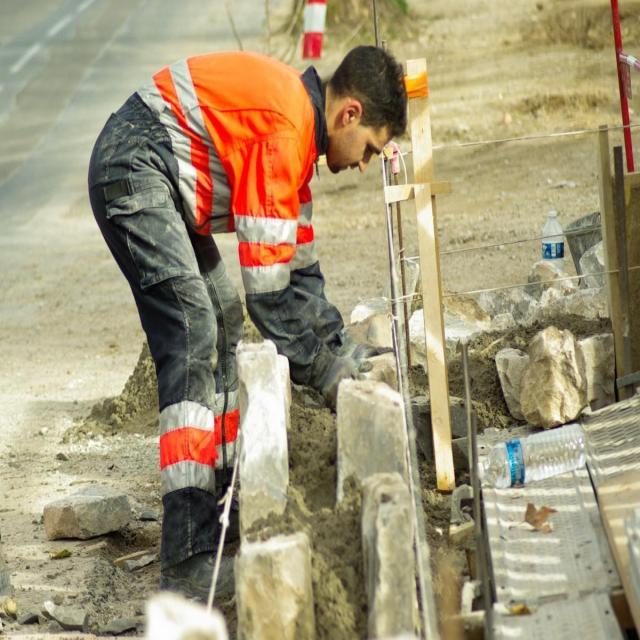Vest: (142, 32, 315, 246)
